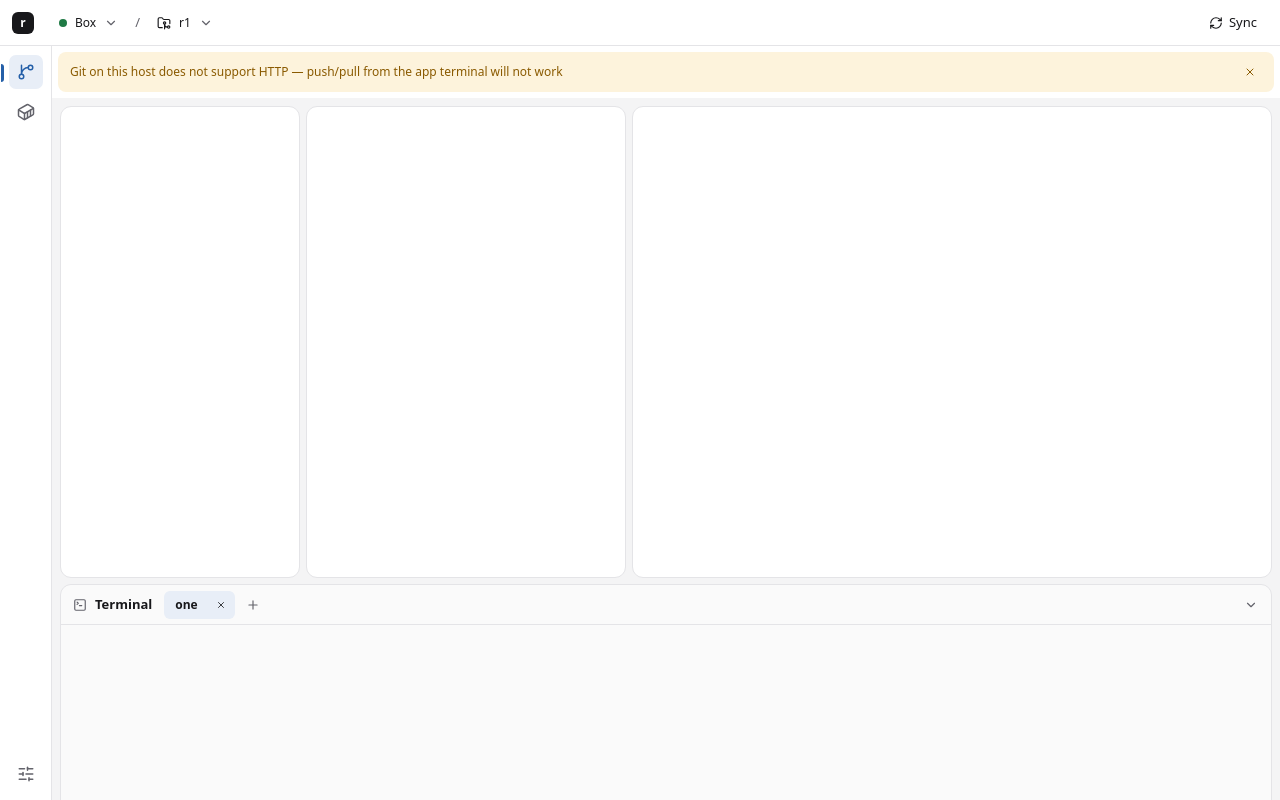
Test: App layout › keeps Git state (terminal tab, dismissed warning) through a Settings visit
Expected: the button named "New terminal" is enabled, [239,590,267,618]
What coordinates should you click on to do the following:
click the button named "Dismiss"
I would click on:
 (1250, 72)
Its box is [1238,60,1262,84].
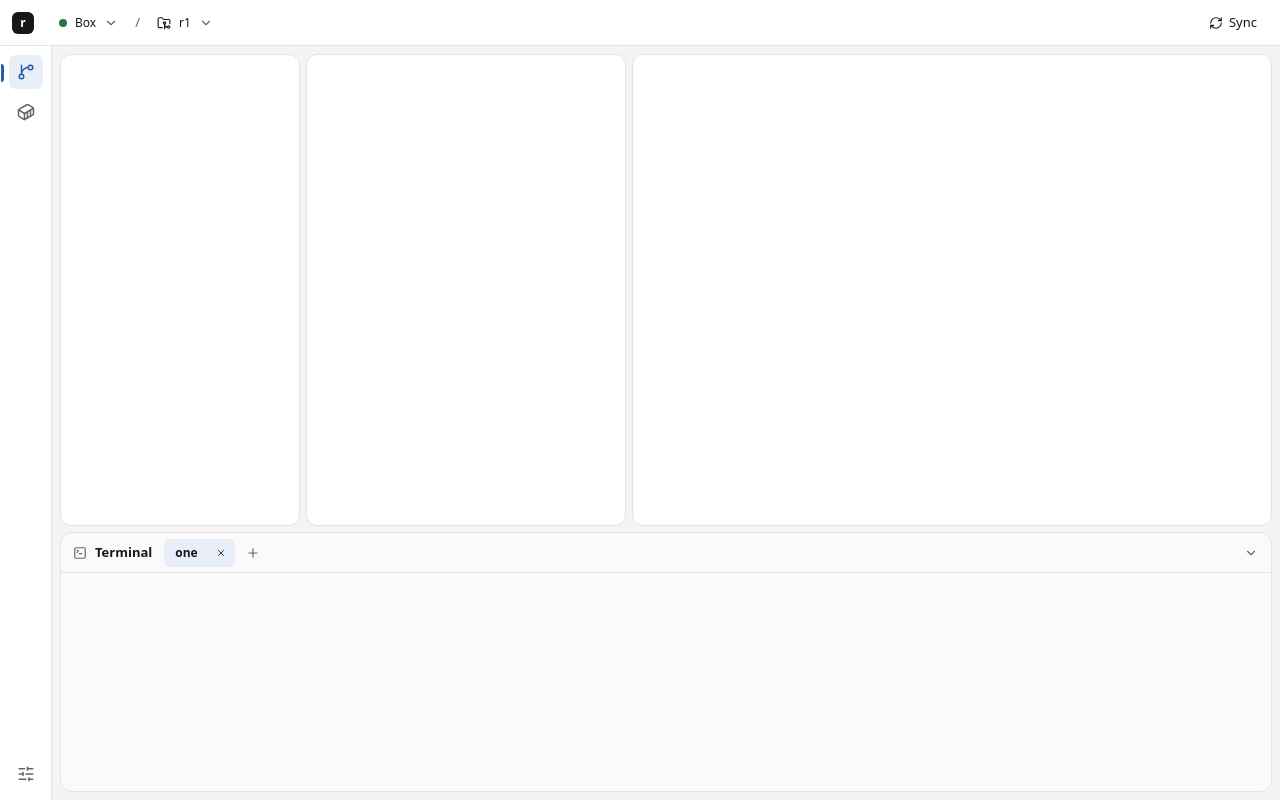
Expected: the button "Dismiss" is gone
What coordinates should you click on to do the following:
click the button named "Settings"
I would click on:
 (26, 774)
Its box is [8,756,44,792].
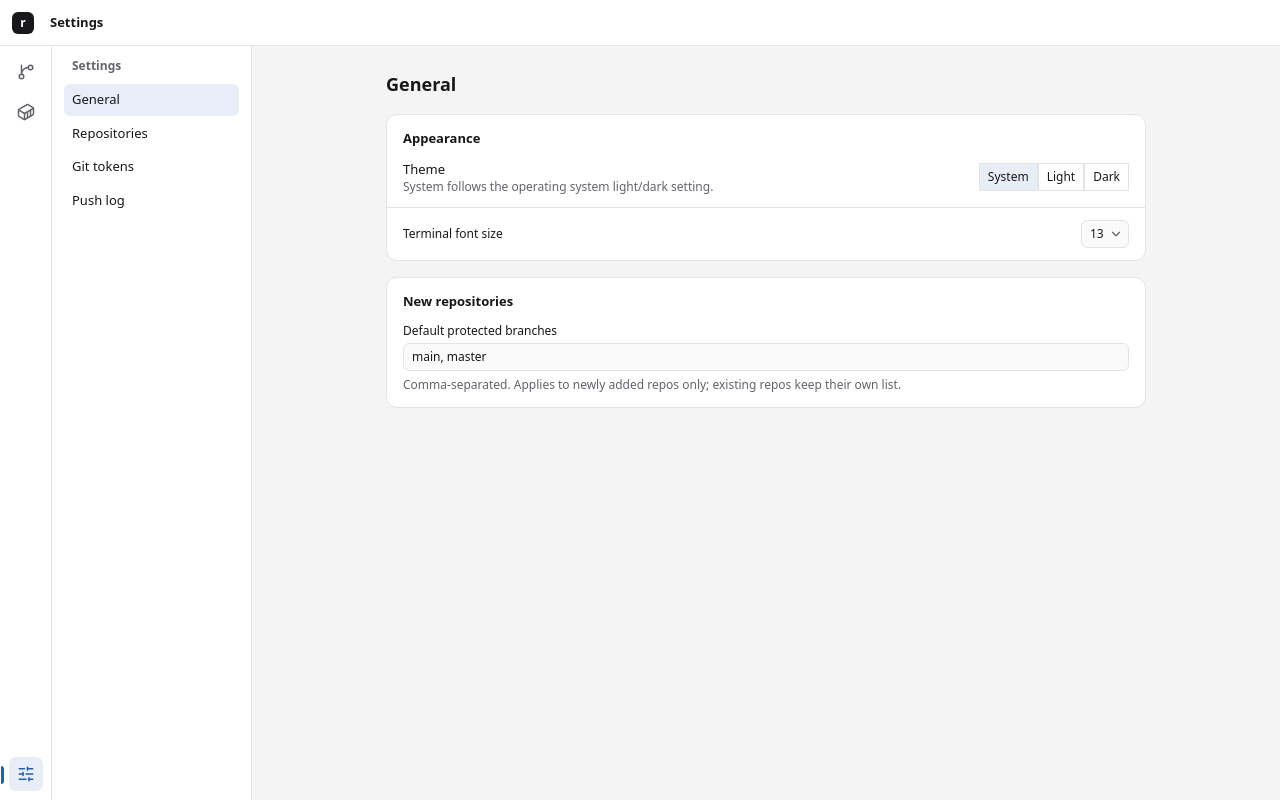
Expected: the element "Settings" is shown
What coordinates should you click on to do the following:
click the button named "Git"
I would click on:
 (26, 72)
Its box is [8,54,44,90].
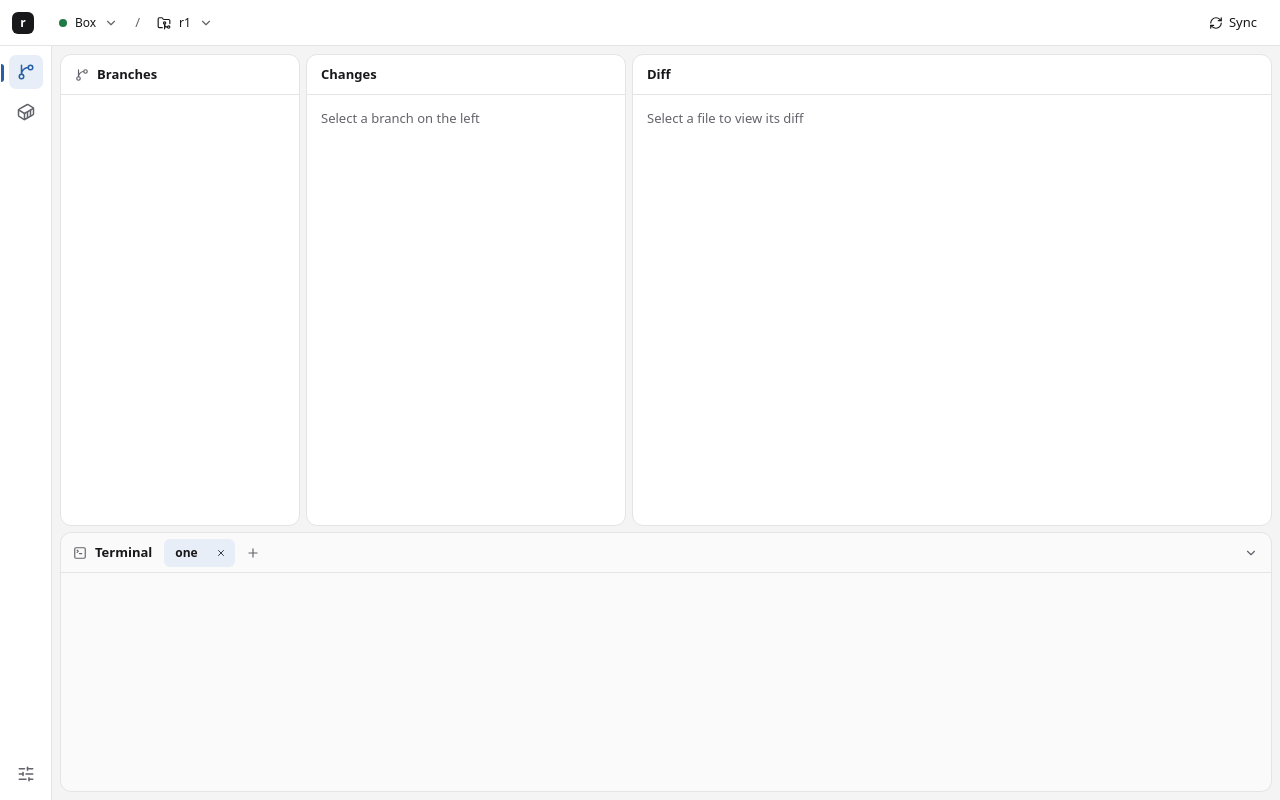
Expected: the text "Settings" is gone
Expected: the button "one" is shown, [164,538,209,566]
